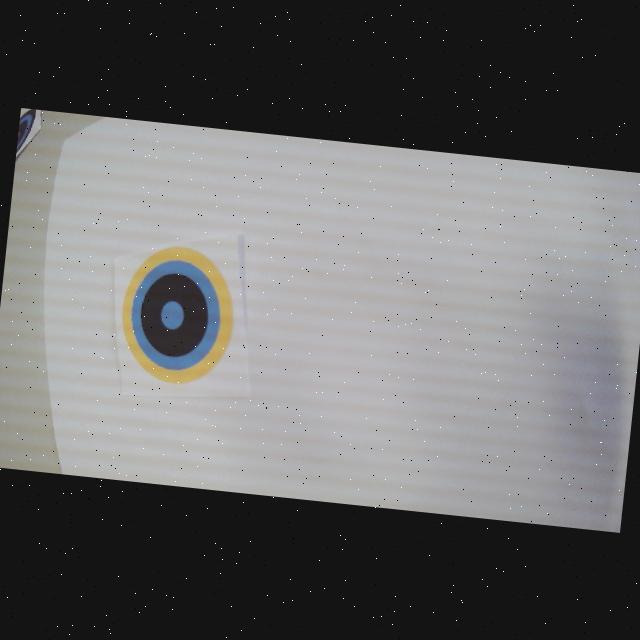COGNITIVE: (114, 241, 241, 389)
